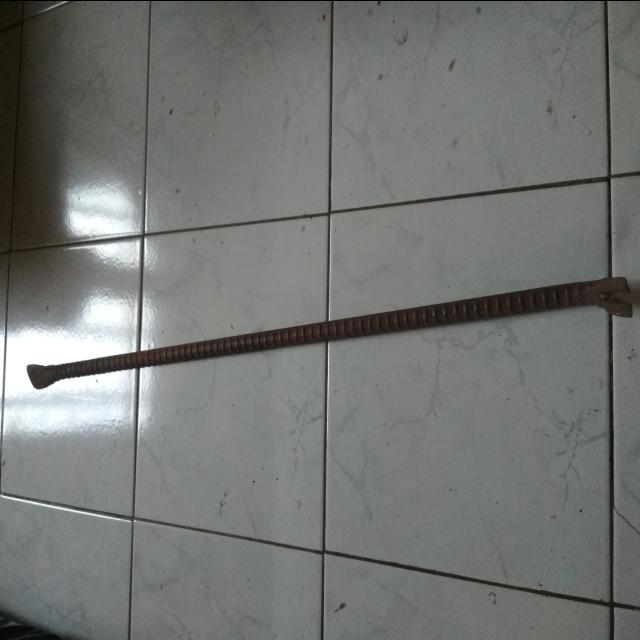Linggis: (24, 276, 636, 387)
